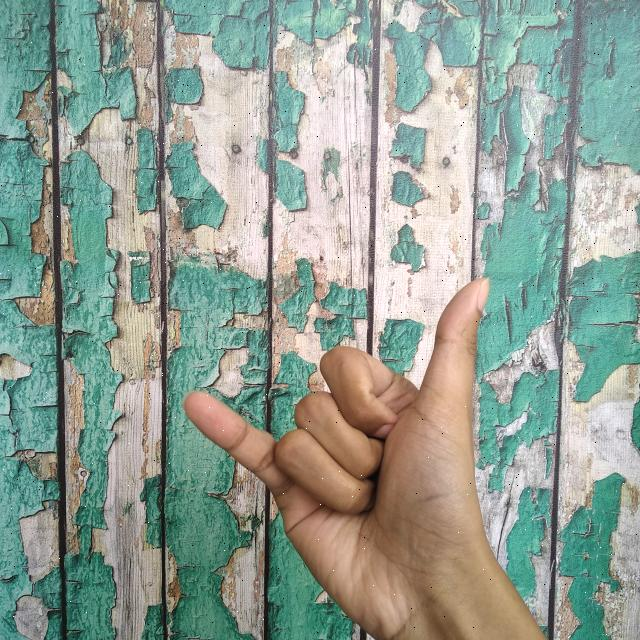Y: (166, 271, 545, 640)
